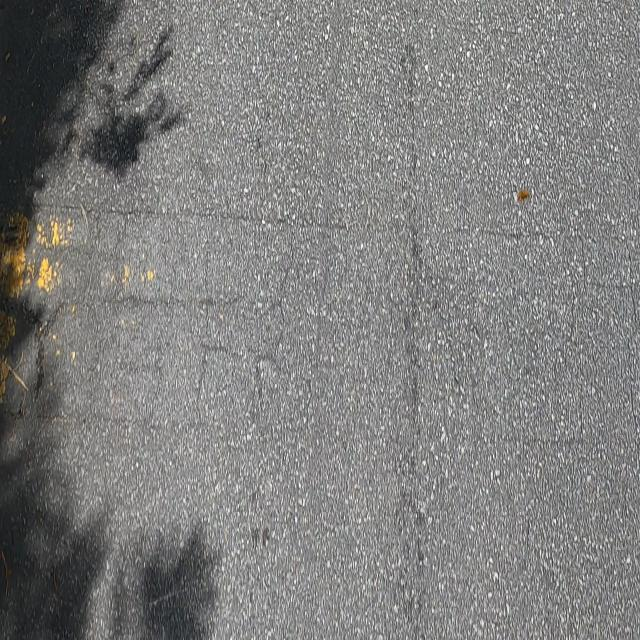Retak-Buaya: (41, 213, 299, 439)
